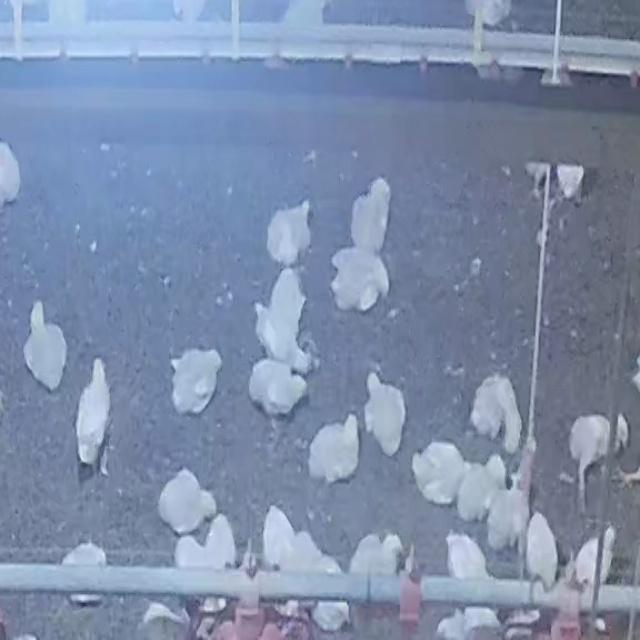chicken: (571, 412, 629, 493), (156, 466, 214, 536), (470, 374, 522, 452), (252, 302, 312, 369), (24, 301, 68, 392), (363, 371, 408, 458), (76, 357, 111, 467), (333, 244, 388, 313), (306, 415, 360, 484), (410, 442, 468, 506), (169, 347, 222, 416), (174, 514, 237, 570), (263, 200, 316, 265), (486, 472, 528, 550), (247, 362, 305, 415), (352, 176, 391, 252), (524, 510, 558, 591), (456, 459, 498, 522), (346, 532, 404, 576), (279, 533, 339, 575), (276, 264, 307, 339), (444, 530, 489, 579), (261, 503, 289, 566), (307, 598, 351, 632), (556, 164, 585, 201)
